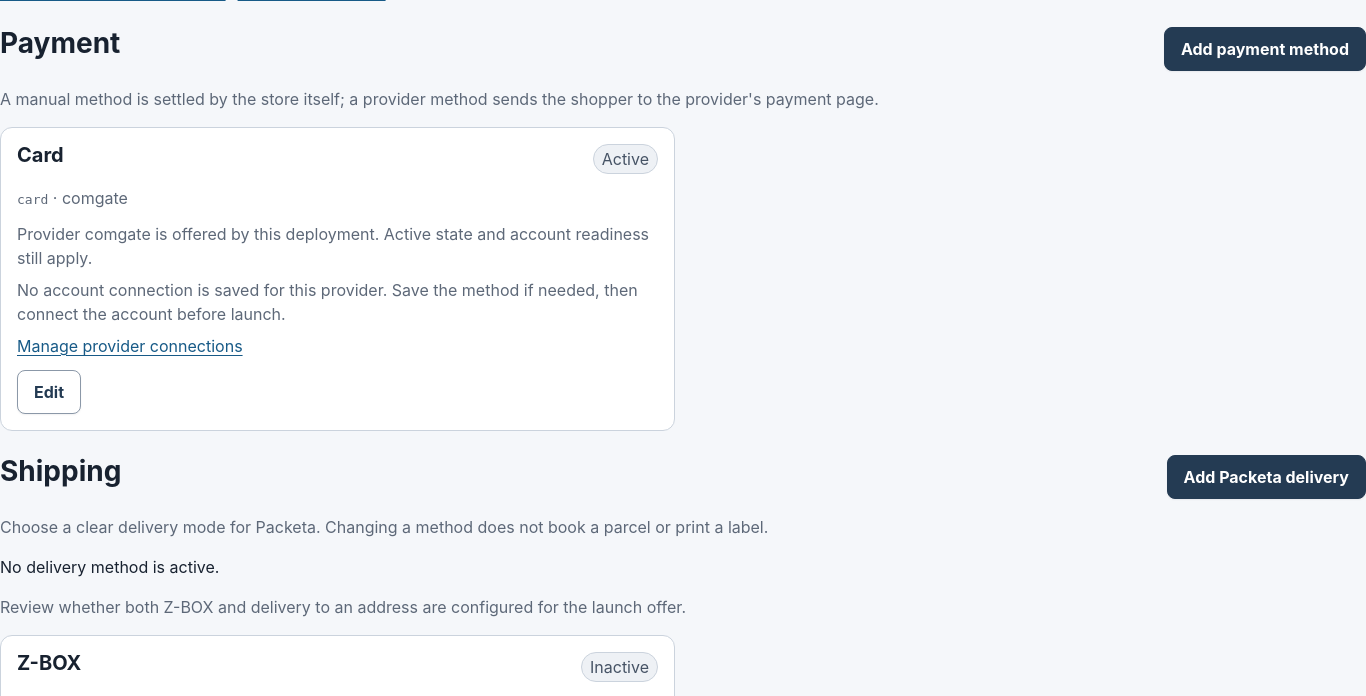
Scenario: does not replay a lost payment save and requires review of a successful fresh read
Click the button with aria-label "Edit payment method Card" at (49, 392), box [17,370,81,414]
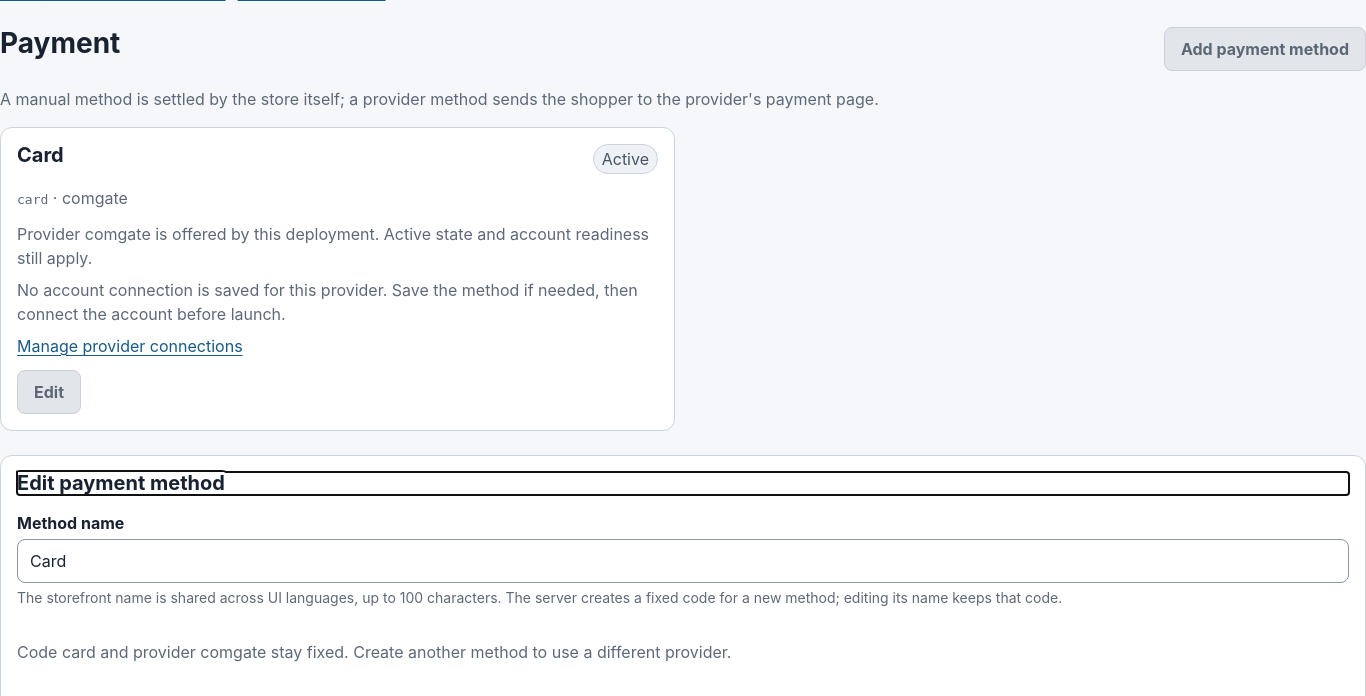
Replace the text in the field labelled "Method name" with "Saved card" at (683, 561), box [17,539,1349,583]
(page scrolled)
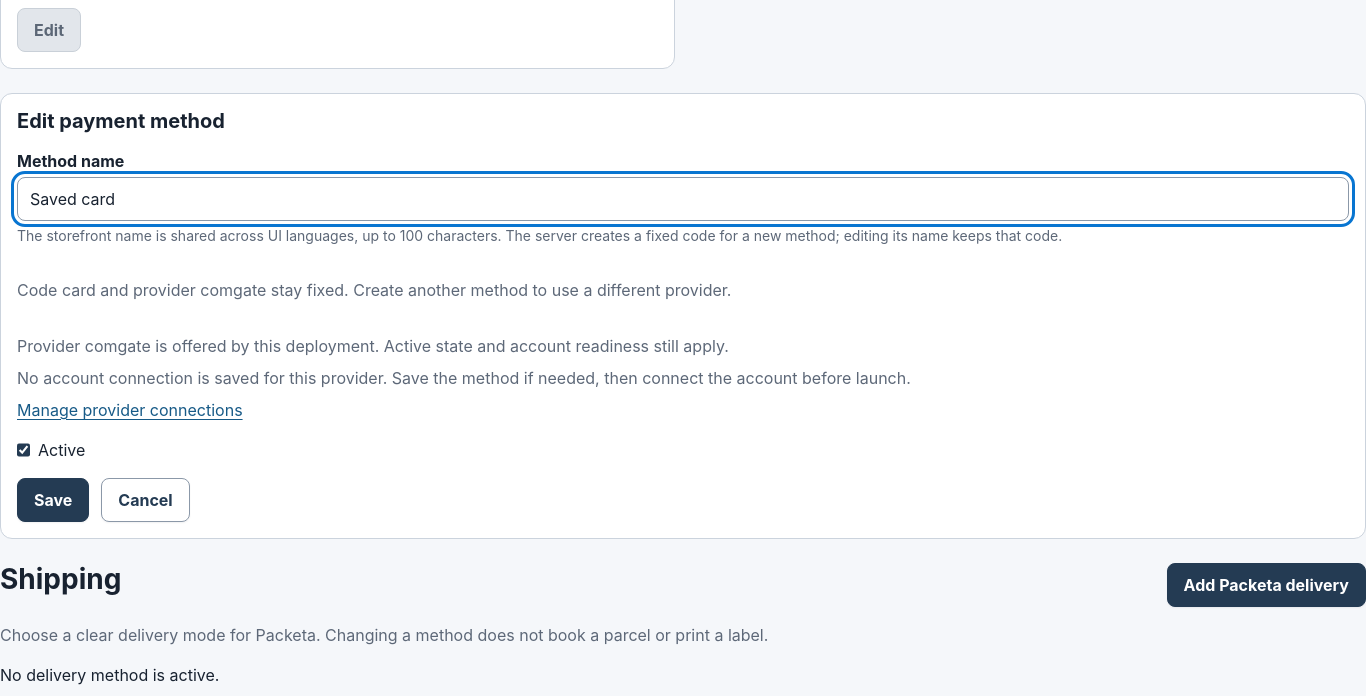
Submit the form "Edit payment method"
(page scrolled)
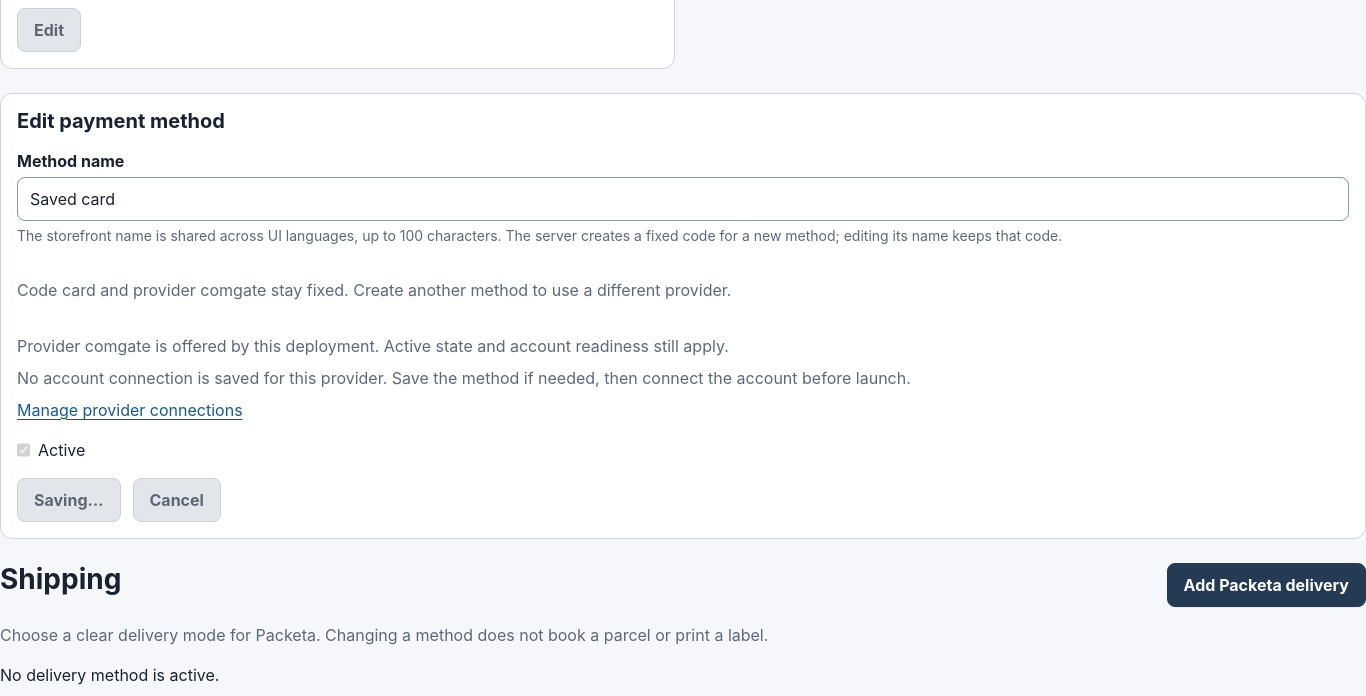
Submit the form "Edit payment method"
(page scrolled)
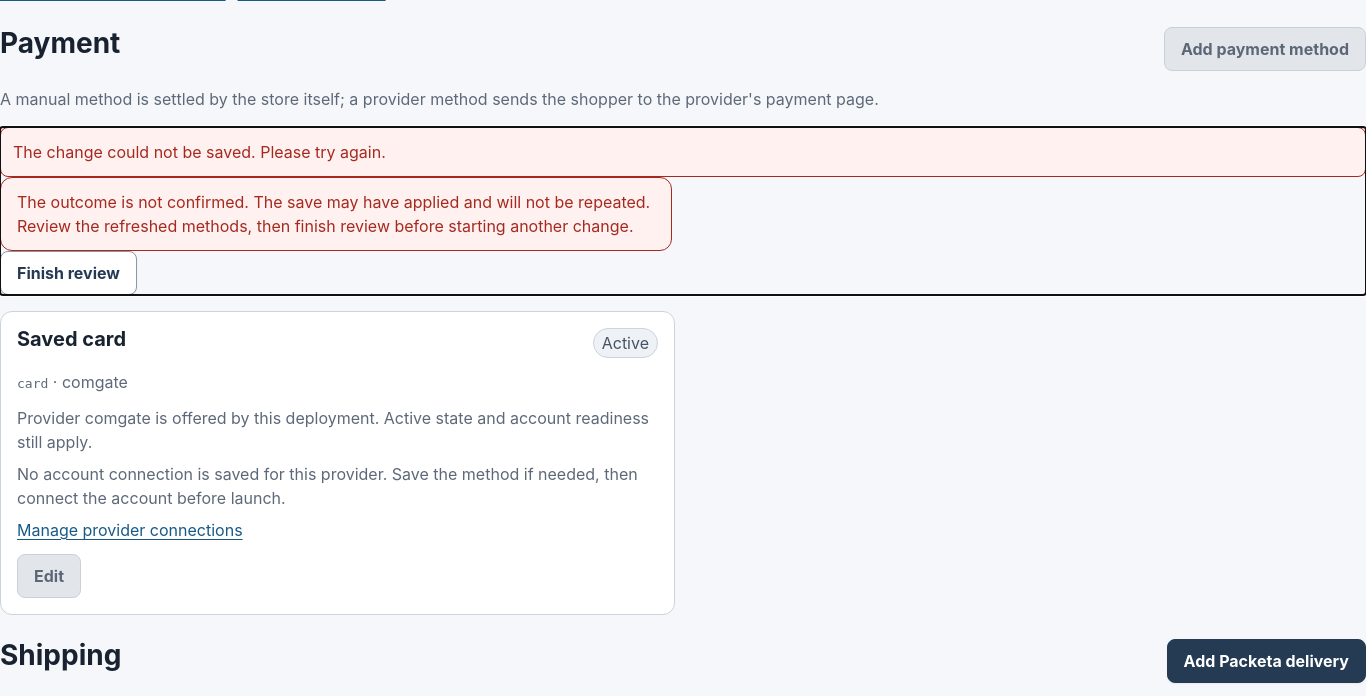
Expected: the button with aria-label "Edit payment method Saved card" is disabled, [17,554,81,598]
Expected: the text "The outcome is not confirmed" is shown, [17,192,650,236]
Expected: the heading "Saved card" is shown, [17,327,126,351]
Click the button "Finish review" at (68, 273), box [0,251,137,295]
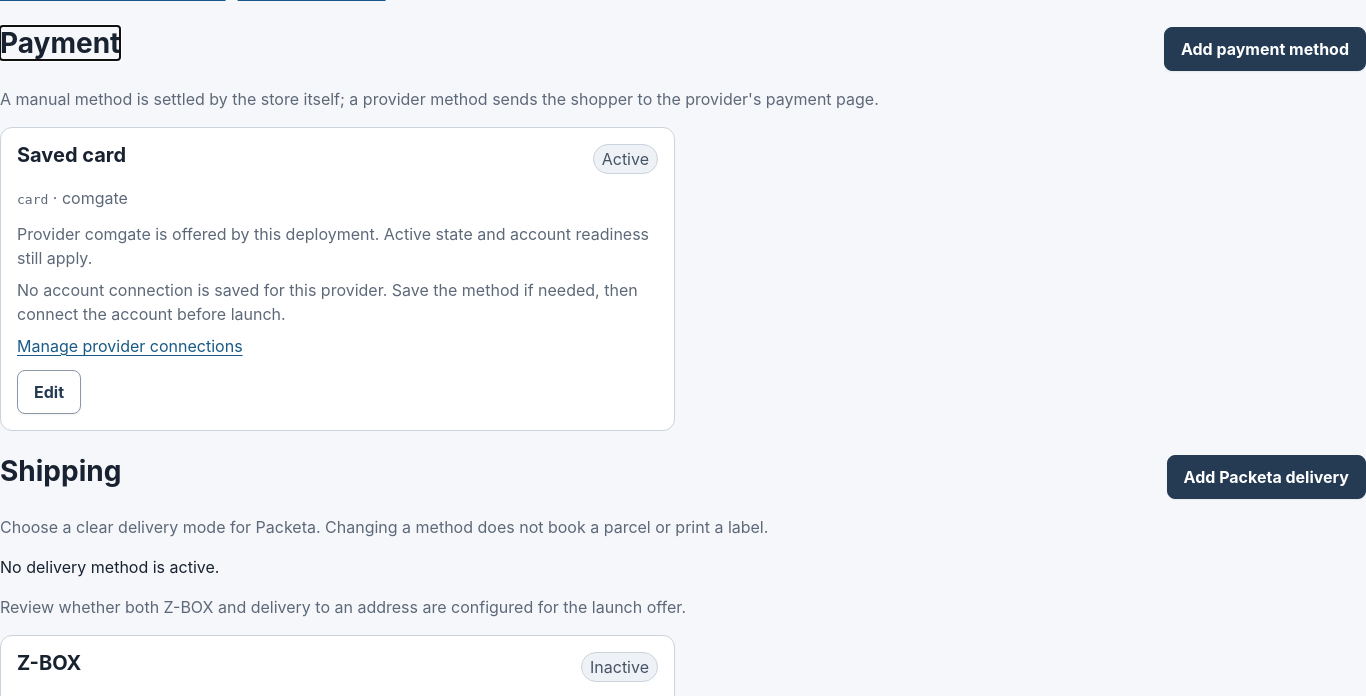
Expected: the button with aria-label "Edit payment method Saved card" is enabled, [17,370,81,414]
